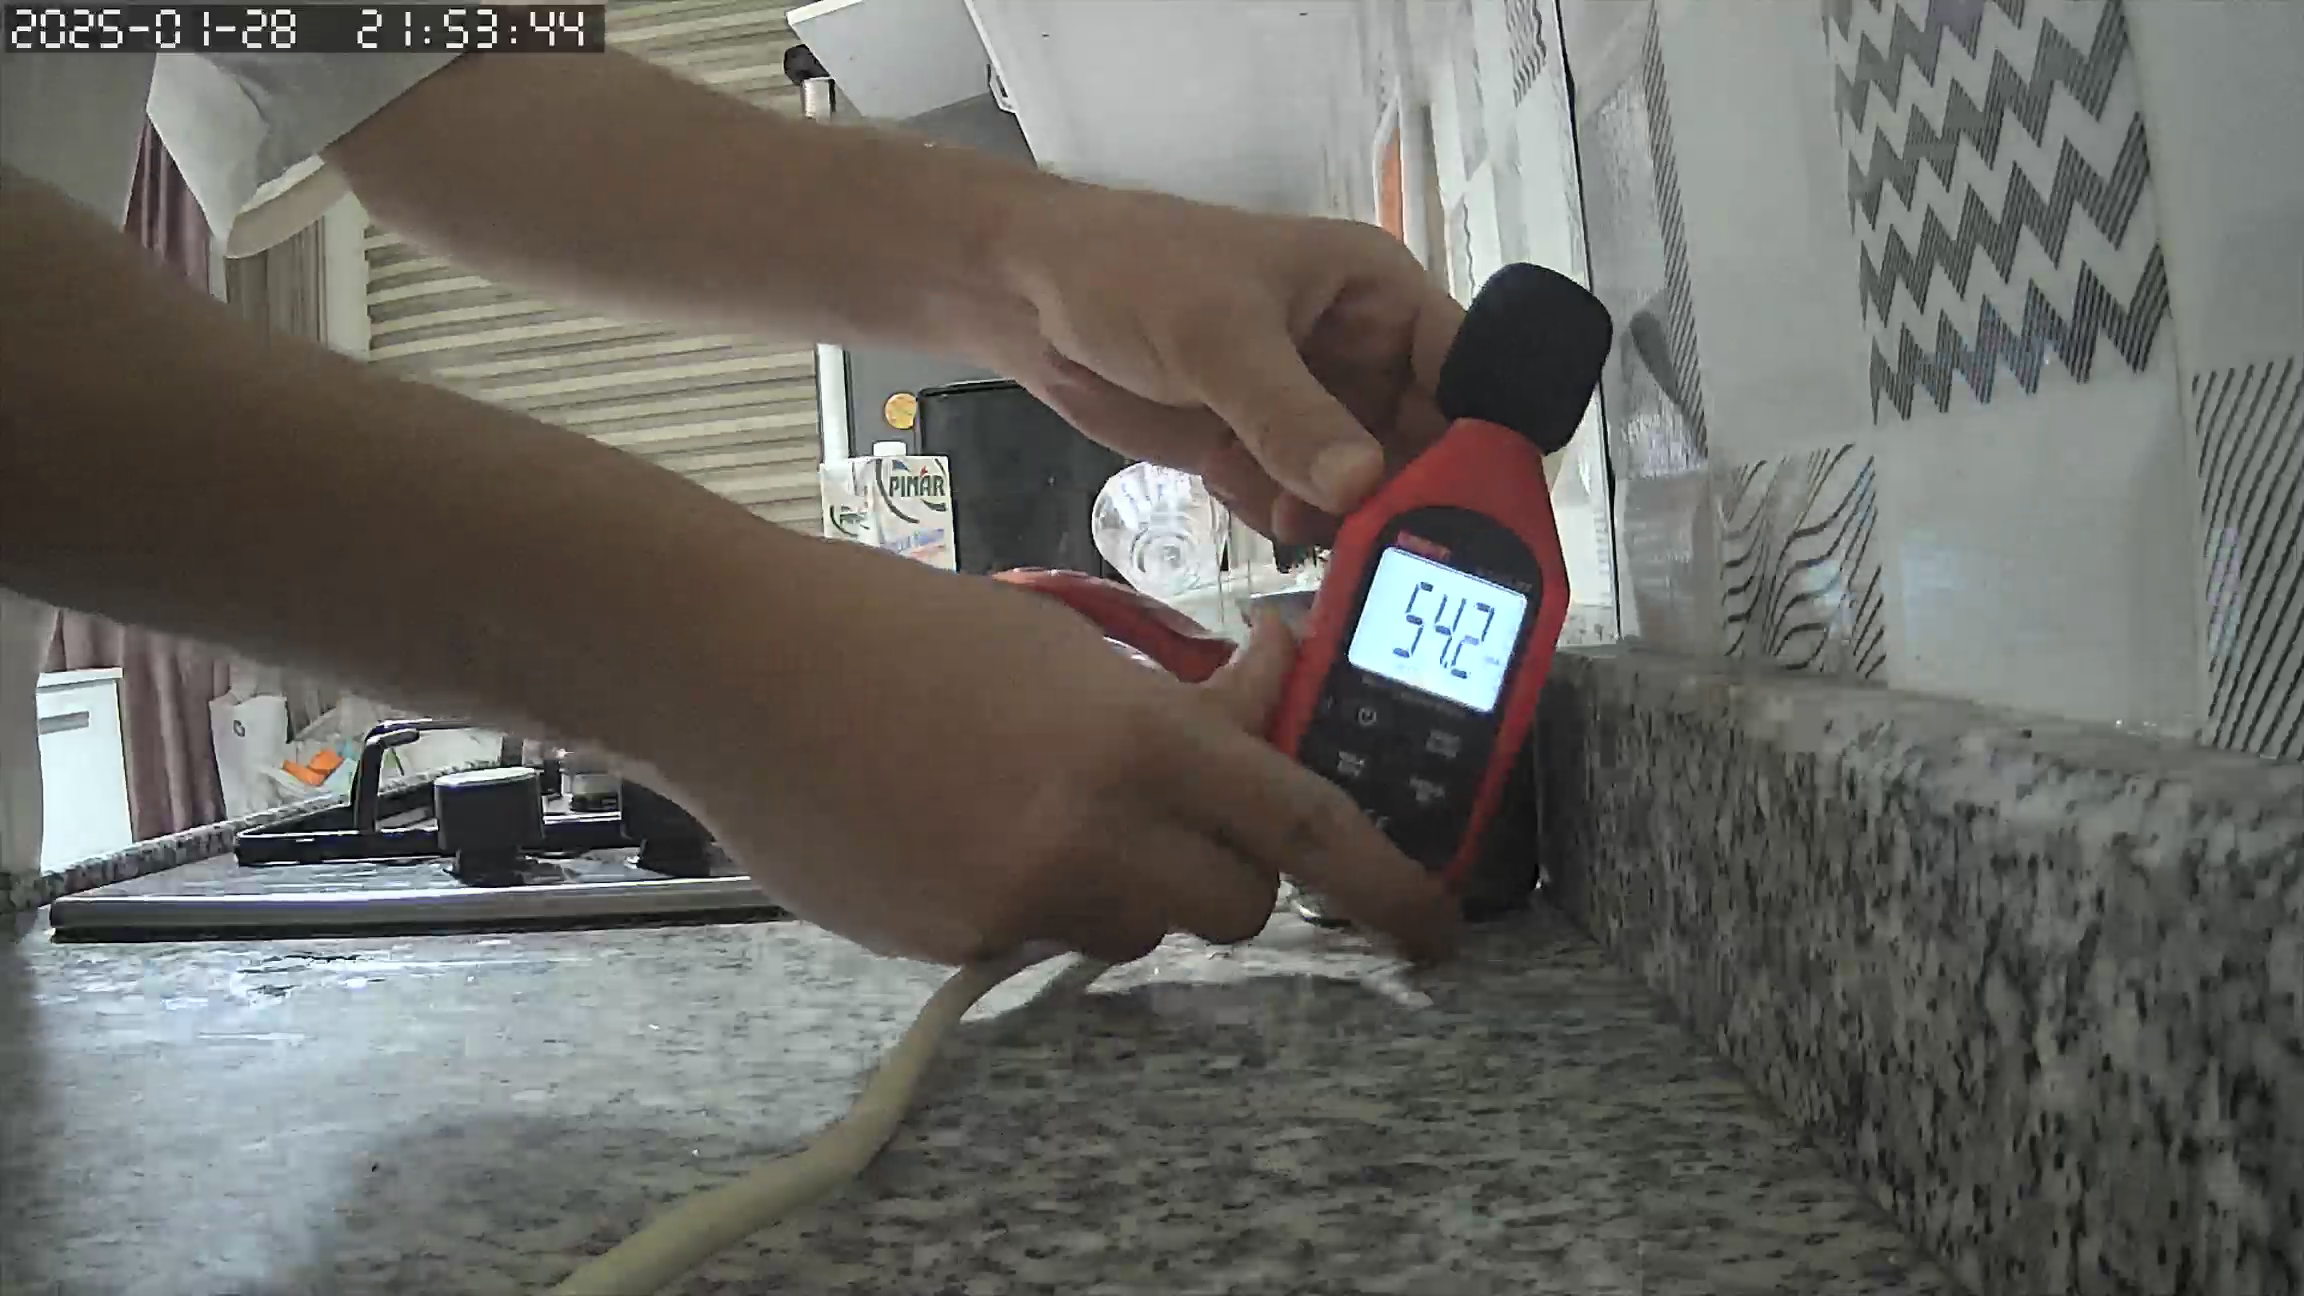screen: (1348, 549, 1527, 718)
